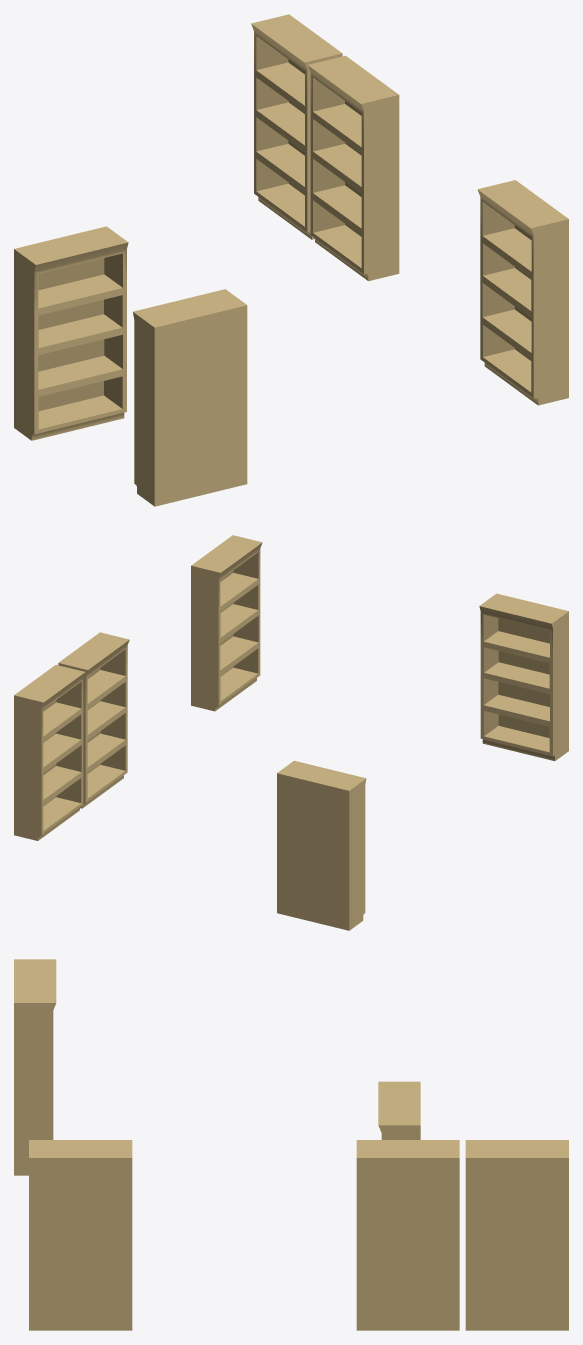
Rendered from cupboard.fbx.
3 renders of one model, top to bottom at view 1: azimuth 30°, elevation 25°; view 2: azimuth 150°, elevation 25°; view 3: azimuth 270°, elevation 25°, orthographic. The views are drawn at different scales.
Visible parts, largest first — view 1: pCube224, pCube221, pCube220, pCube223, pCube9; view 2: pCube221, pCube224, pCube223, pCube9, pCube220; view 3: pCube9, pCube220, pCube223, pCube224, pCube221.
Part boxes in pixels (x1=…): pCube224: x1=133, y1=289, x2=247, y2=506; pCube221: x1=14, y1=226, x2=128, y2=440; pCube220: x1=308, y1=55, x2=399, y2=281; pCube223: x1=477, y1=180, x2=568, y2=405; pCube9: x1=251, y1=14, x2=342, y2=239; pCube221: x1=277, y1=760, x2=366, y2=930; pCube224: x1=479, y1=593, x2=568, y2=760; pCube223: x1=191, y1=535, x2=262, y2=711; pCube9: x1=14, y1=665, x2=85, y2=840; pCube220: x1=58, y1=632, x2=129, y2=808; pCube9: x1=465, y1=1140, x2=568, y2=1330; pCube220: x1=356, y1=1140, x2=459, y2=1330; pCube223: x1=29, y1=1140, x2=132, y2=1330; pCube224: x1=14, y1=959, x2=56, y2=1175; pCube221: x1=378, y1=1081, x2=420, y2=1139.
Bounding box in the file's own units: 0.000646 × 0.000397 × 0.000762.
